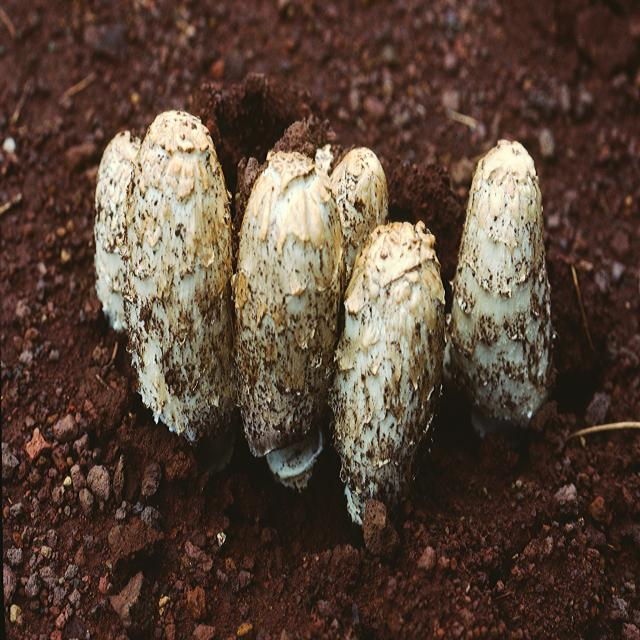Coprinus comatus: (341, 221, 446, 534), (128, 110, 229, 433), (239, 149, 335, 486), (456, 139, 555, 427), (93, 129, 133, 333)
